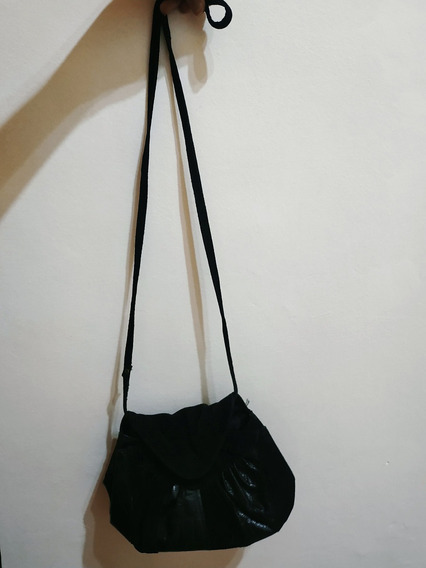cartera: (103, 1, 298, 554)
